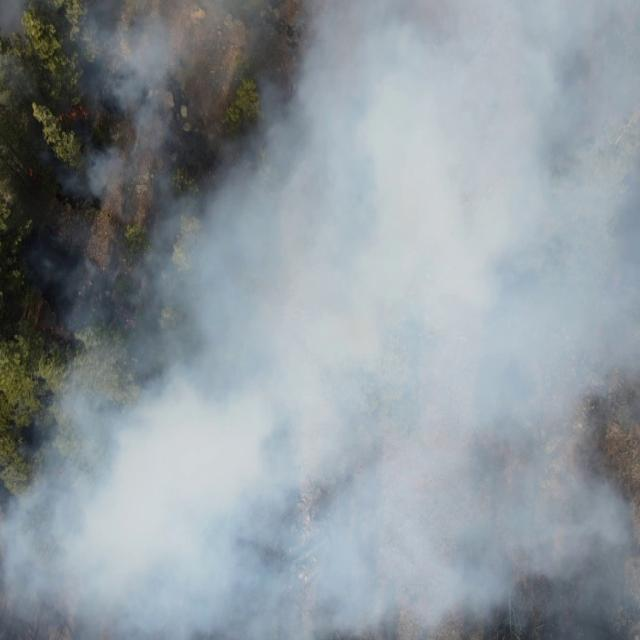fire: (68, 102, 88, 120), (55, 112, 66, 123), (26, 166, 34, 177)
smoke: (1, 0, 640, 640)
